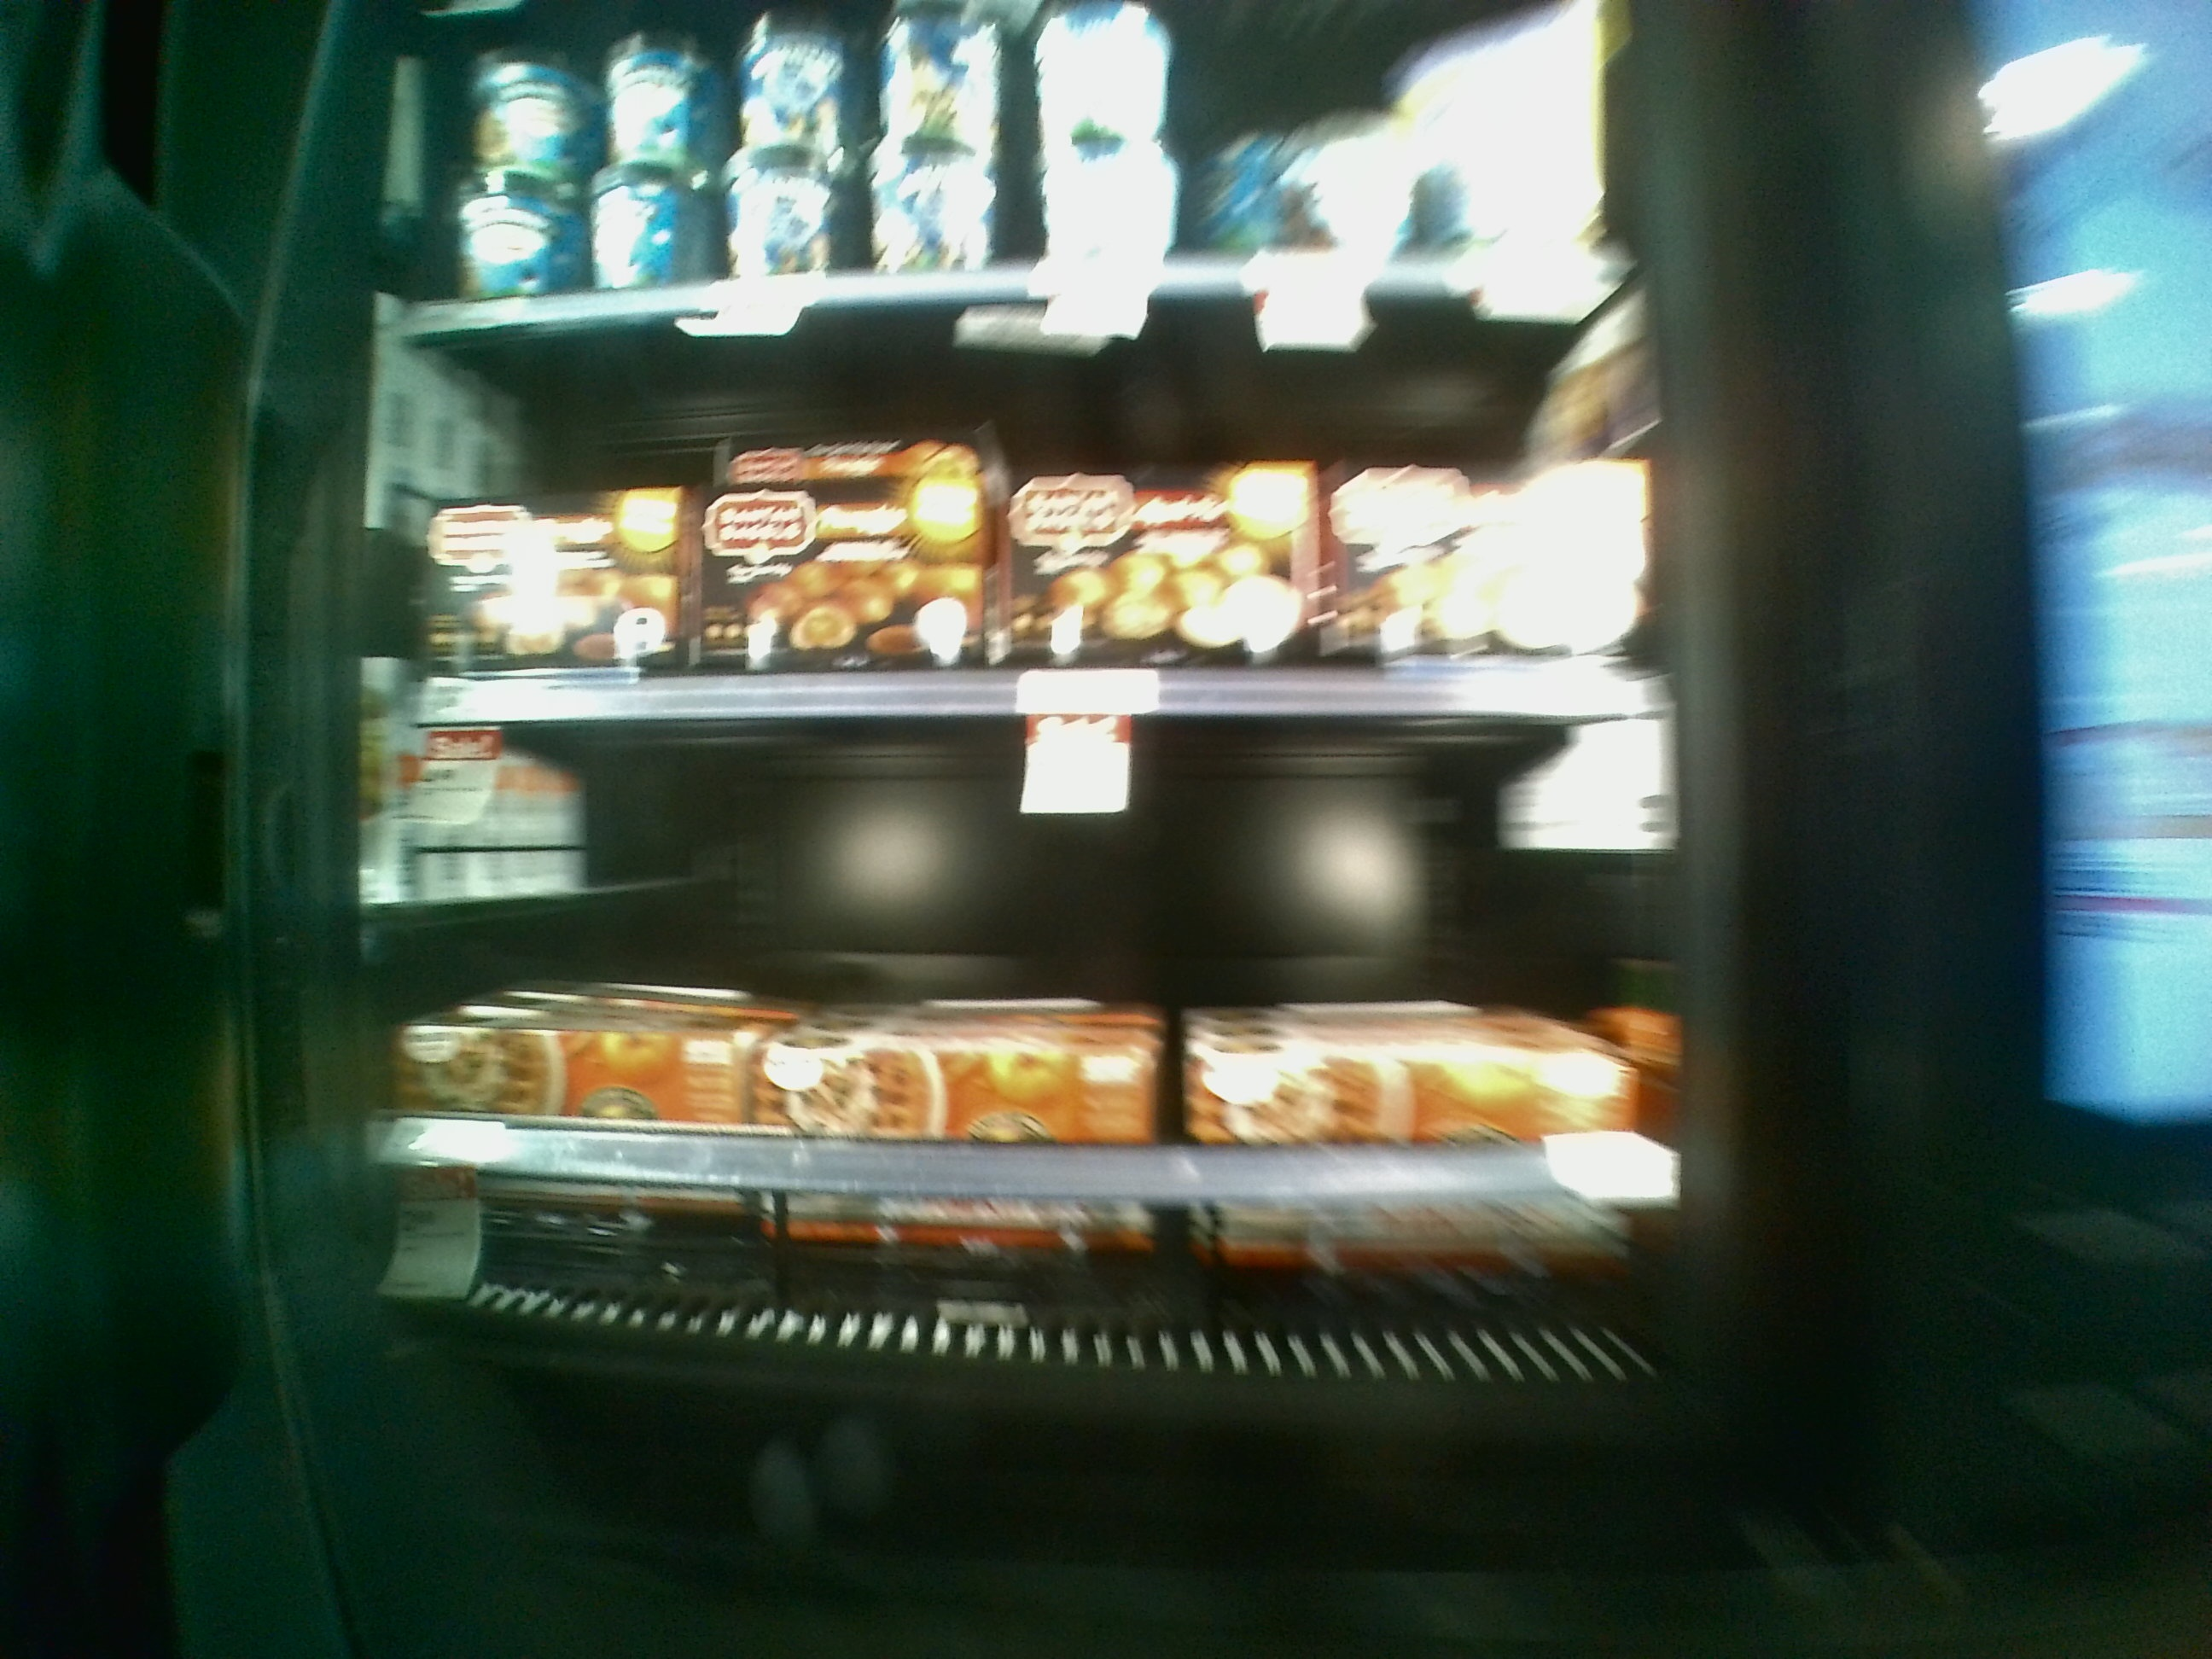shelf: (376, 695, 1669, 1401), (381, 305, 1683, 711)
